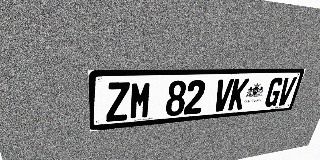2: (183, 80, 206, 115)
8: (165, 80, 188, 116)
G: (263, 77, 285, 107)
K: (227, 78, 250, 110)
M: (129, 81, 153, 120)
V: (212, 79, 234, 112), (276, 77, 297, 106)
Z: (106, 82, 130, 122)
